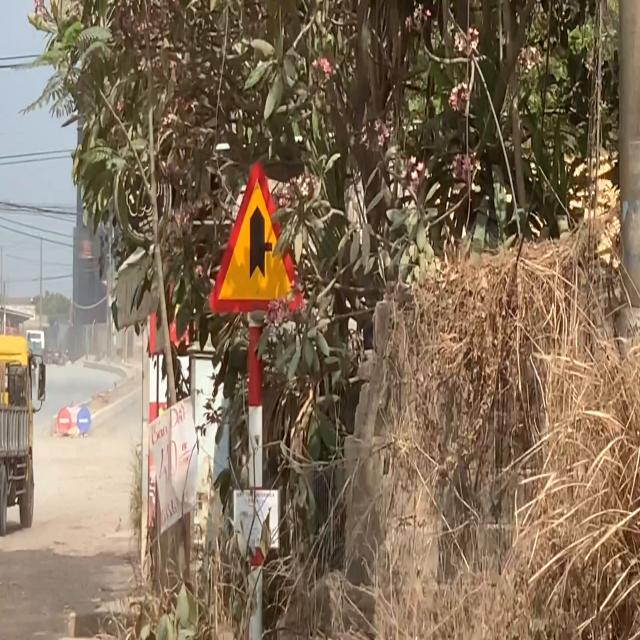Cam nguoc chieu: (56, 407, 72, 435)
Cam re phai: (76, 405, 91, 436)
Giao voi duong khong uu tien: (208, 160, 306, 315)
